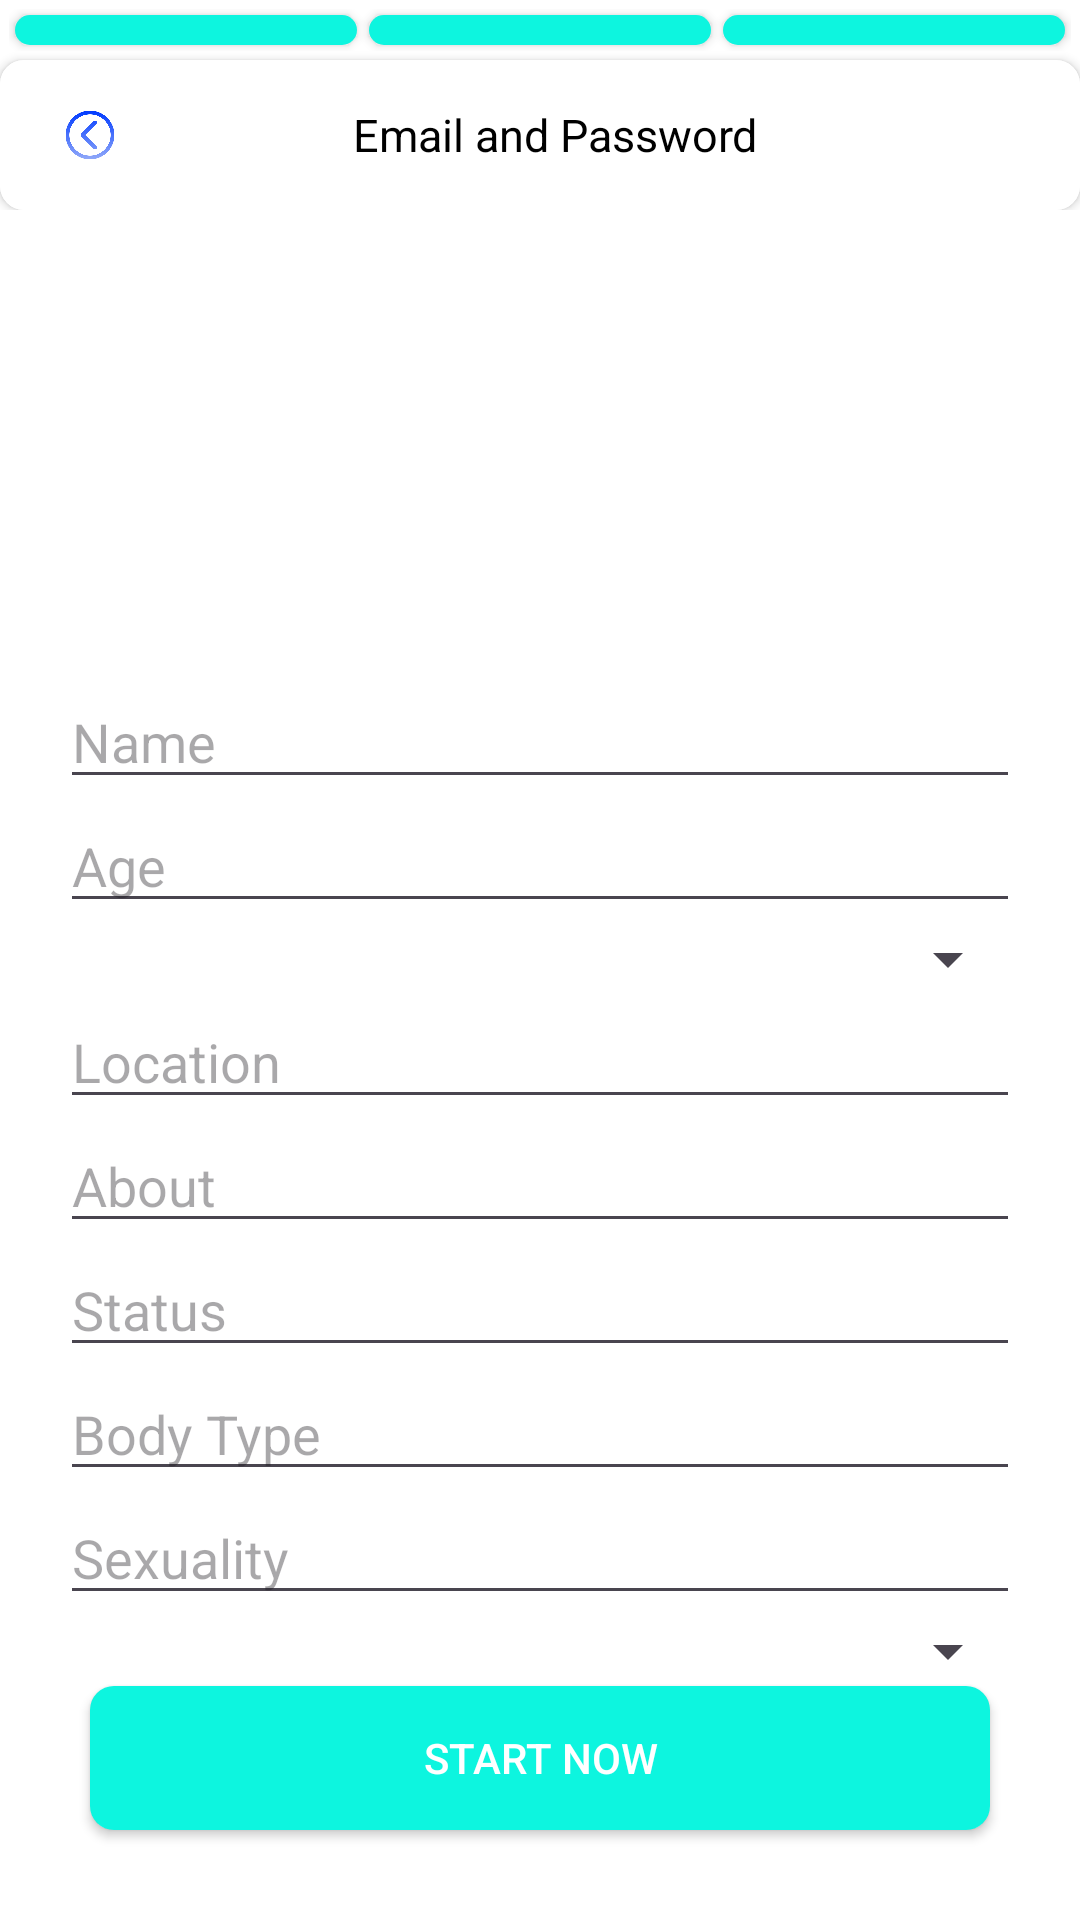

Where to tap for icons on this 1080×1920 app screen, as point (x, y):
back: point (90, 135)
